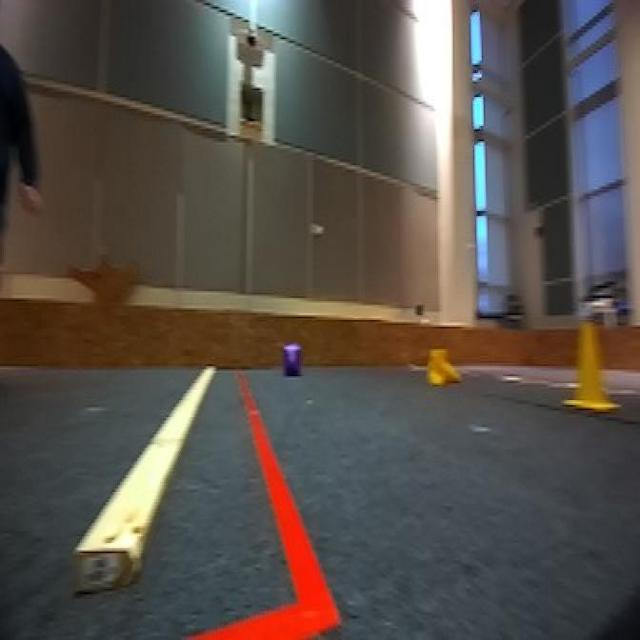frc_cone: (570, 313, 620, 417), (426, 346, 462, 386)
frc_cube: (284, 342, 301, 378)
